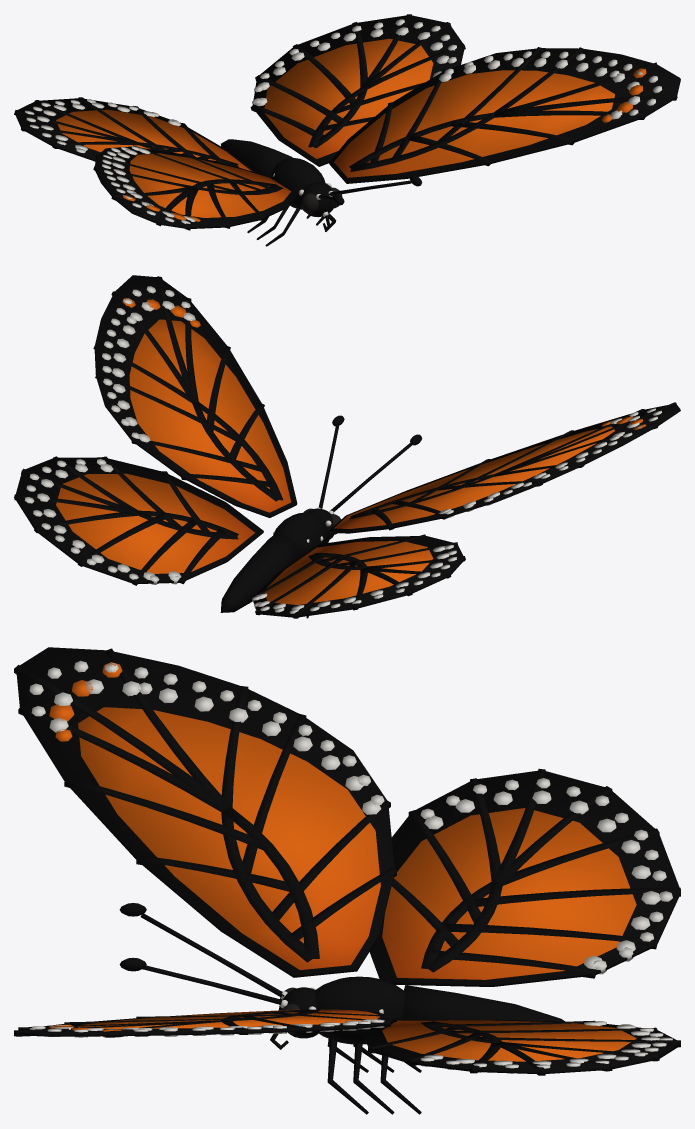
The model's file is MonarchButterfly.fbx.
3 views of the same model, one above another, from view 1: azimuth 30°, elevation 25°; view 2: azimuth 150°, elevation 25°; view 3: azimuth 270°, elevation 25° (orthographic). The views are drawn at different scales.
Parts seen in each view (by area): view 1: MonarchButterfly; view 2: MonarchButterfly; view 3: MonarchButterfly.
Part boxes in pixels (x1=…): MonarchButterfly: x1=14, y1=14, x2=680, y2=246; MonarchButterfly: x1=14, y1=275, x2=680, y2=618; MonarchButterfly: x1=14, y1=647, x2=680, y2=1114.
Size of the model in its own units: 1.07 by 0.328 by 0.7819.
